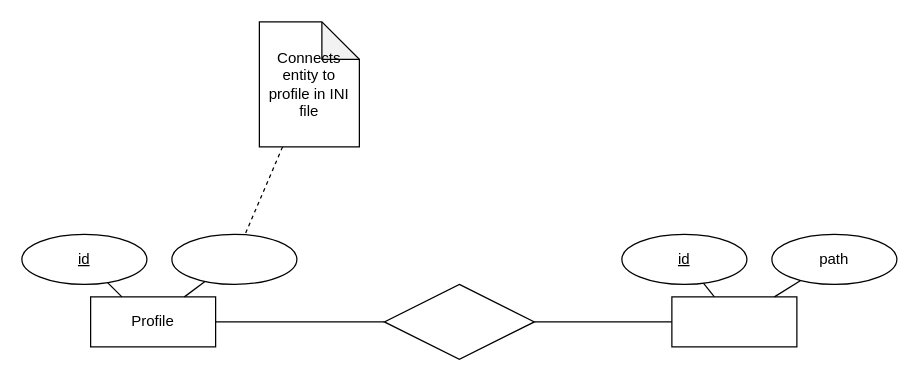
This 919x381 diagram has some shape labels left out. The centre of each missing label's shape, as x and y in pixels:
name: point (234, 258)
Template: point (734, 321)
Template of: point (458, 321)
